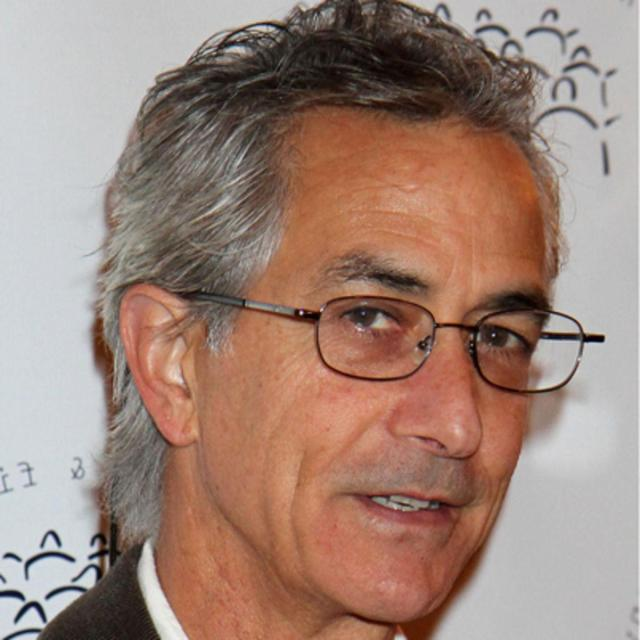no-earmuff: (103, 265, 224, 478)
